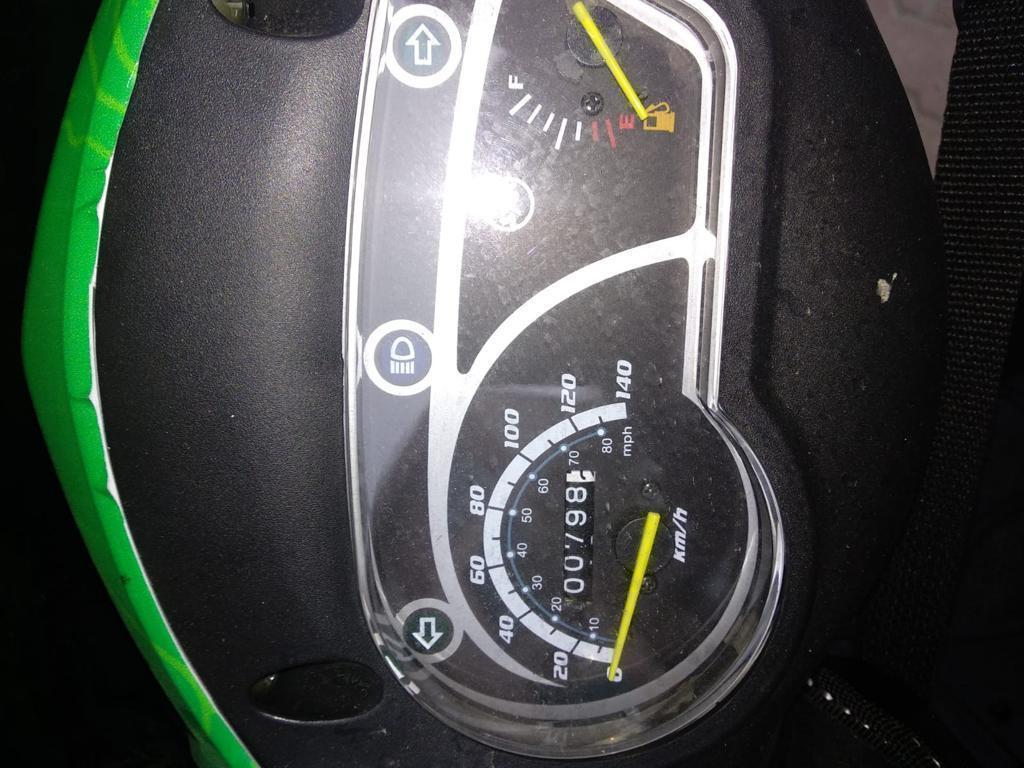0: (562, 576, 585, 594), (563, 554, 584, 572)
2: (578, 468, 596, 481)
7: (562, 531, 585, 550)
8: (563, 485, 588, 503)
9: (563, 508, 588, 527)
odometer: (557, 467, 598, 604)
